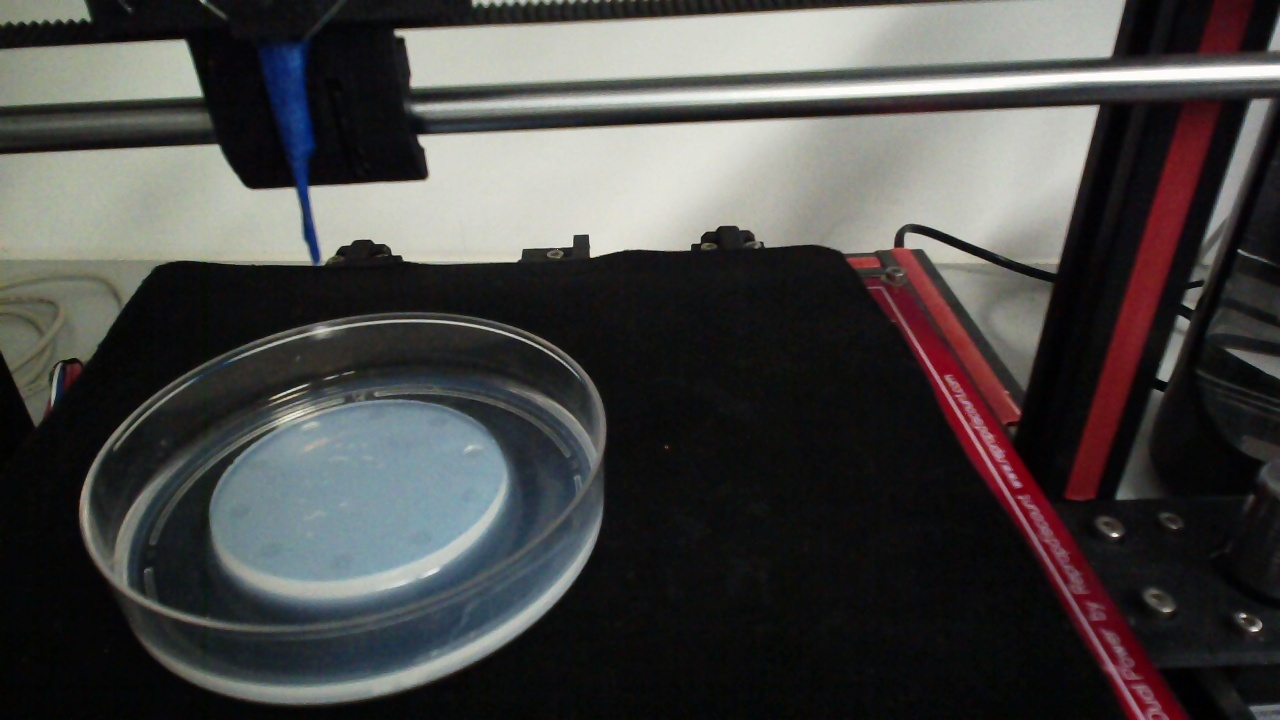groove: (252, 540, 281, 562), (405, 527, 435, 548), (327, 552, 353, 576), (225, 500, 254, 521), (460, 442, 486, 463), (242, 454, 270, 472), (459, 485, 485, 503), (422, 414, 449, 430), (300, 420, 323, 438), (365, 406, 390, 422)
needle: (261, 45, 321, 262)
